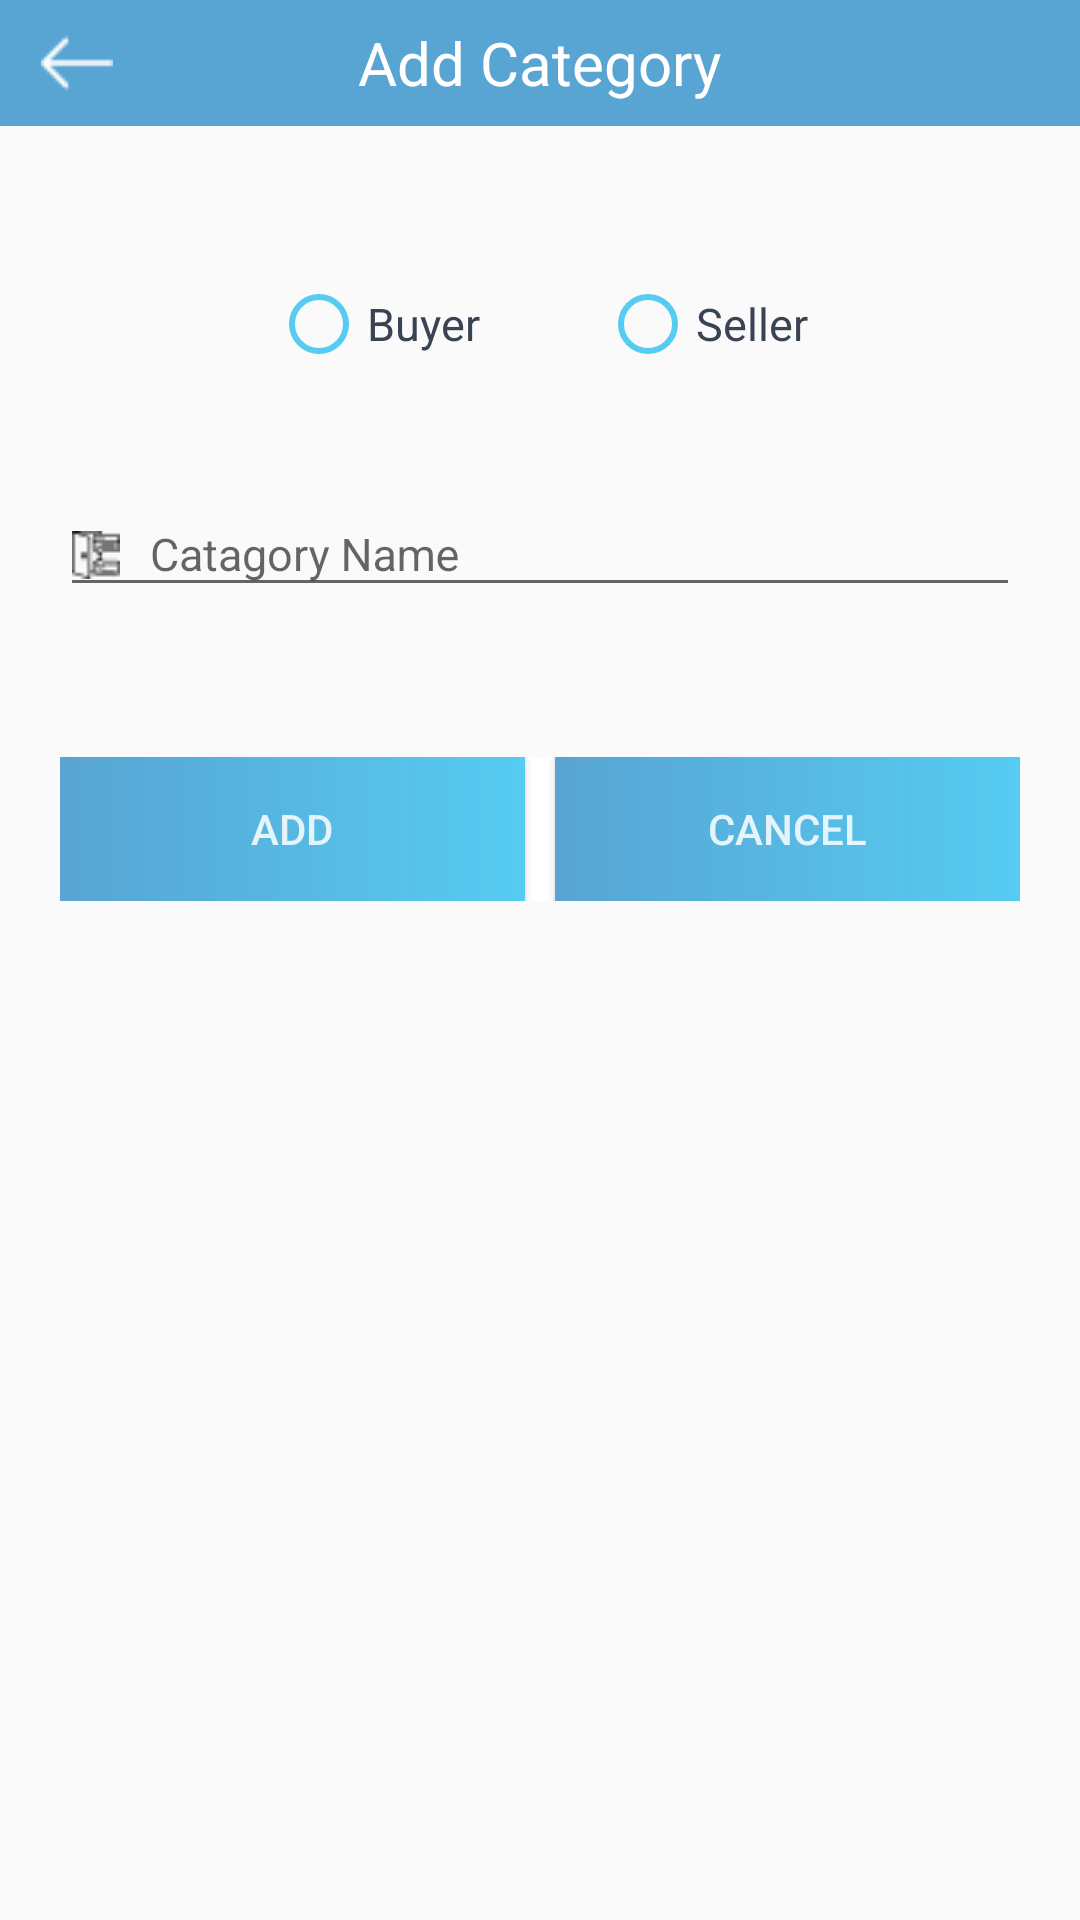

Point at icon controls on the screen. Image size 1080 x 1920, points as [x,y].
back arrow: [77,63]
